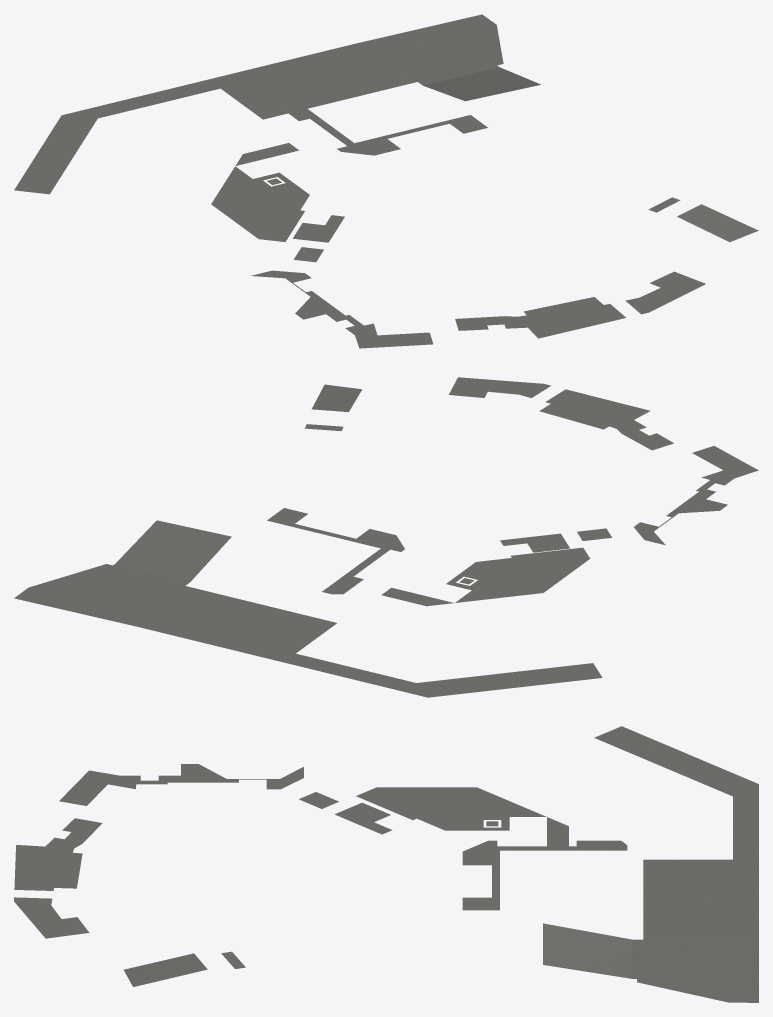
File: kd_stage_135fe0_5_38_bounded.glb
3 renders of one model, top to bottom at view 1: azimuth 30°, elevation 25°; view 2: azimuth 150°, elevation 25°; view 3: azimuth 270°, elevation 25°, orthographic. The views are drawn at different scales.
Visible parts, largest first — view 1: kd_stage_135fe0_5_38_bounded; view 2: kd_stage_135fe0_5_38_bounded; view 3: kd_stage_135fe0_5_38_bounded.
Boxes of the visible parts, x1,y1,x2,y2 form: kd_stage_135fe0_5_38_bounded: [14, 14, 758, 348]; kd_stage_135fe0_5_38_bounded: [14, 377, 758, 697]; kd_stage_135fe0_5_38_bounded: [14, 726, 758, 1002].
Bounding box in the file's own units: 23.33 × 0.9218 × 26.73.
1 material, 1 textured.
